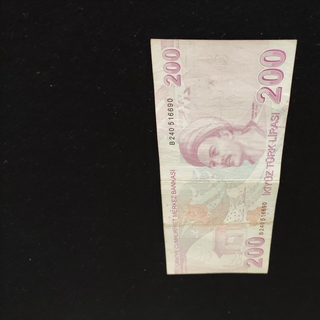200TLBack: (149, 37, 297, 275)
